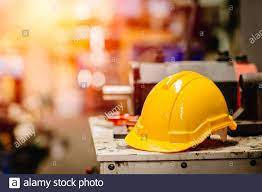helmet: (126, 62, 243, 156)
